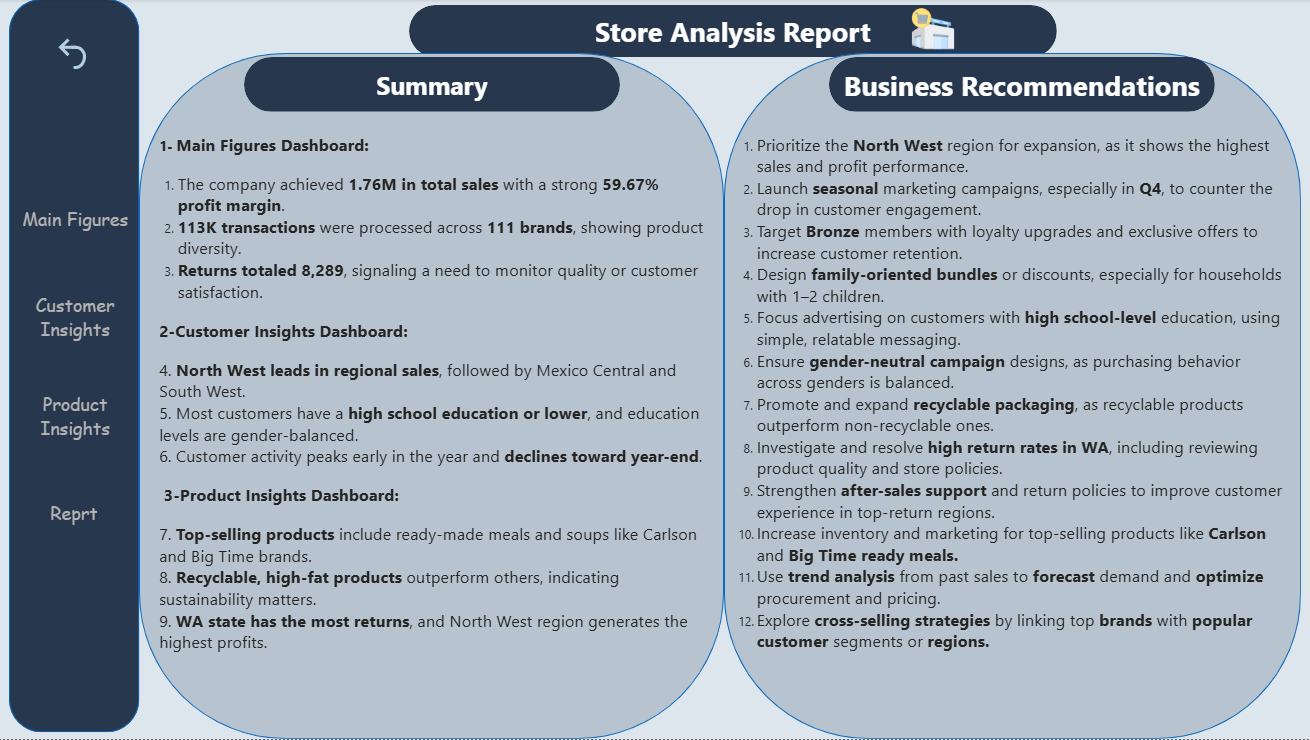

The page's visual inventory and layout, read from the dashboard file:
{"tool":"powerbi","page":{"name":"Report","canvas":[1280,720],"ordinal":3},"visuals":[{"type":"shape","box":[14.4,0,126.7,713.3],"z":0},{"type":"actionButton","box":[22.7,182.5,113.2,62.8],"z":1000},{"type":"actionButton","box":[22.7,278.5,113.2,62.8],"z":2000},{"type":"actionButton","box":[22.7,374.6,113.2,62.8],"z":3000},{"type":"shape","box":[403.6,5.8,630.3,50.6],"z":4000},{"type":"actionButton","box":[56,33,100,40],"z":5000},{"type":"image","box":[877.3,1.9,72.9,54.5],"z":6000},{"type":"shape","box":[141,52.5,569,667.2],"z":7000},{"type":"shape","box":[710,52.5,561.2,667.2],"z":8000},{"type":"shape","box":[243.2,56.4,365.7,53.5],"z":9000},{"type":"shape","box":[812.2,56.4,375.4,53.5],"z":10000},{"type":"textbox","box":[155.6,125.5,540.8,543.7],"z":11000},{"type":"textbox","box":[718.8,125.5,545.7,543.7],"z":12000},{"type":"actionButton","box":[21.4,467.8,112.8,63.2],"z":13000}]}

Visuals, with their boxes in screenshot pixels (x1, y1, x2, y2), scaled from the page's 1280x720 canvas onto the 1310x740 screenshot:
shape: 15, 0, 144, 733
actionButton: 23, 188, 139, 252
actionButton: 23, 286, 139, 351
actionButton: 23, 385, 139, 450
shape: 413, 6, 1058, 58
actionButton: 57, 34, 160, 75
image: 898, 2, 972, 58
shape: 144, 54, 727, 739
shape: 727, 54, 1301, 739
shape: 249, 58, 623, 113
shape: 831, 58, 1215, 113
textbox: 159, 129, 713, 688
textbox: 736, 129, 1294, 688
actionButton: 22, 481, 137, 546
